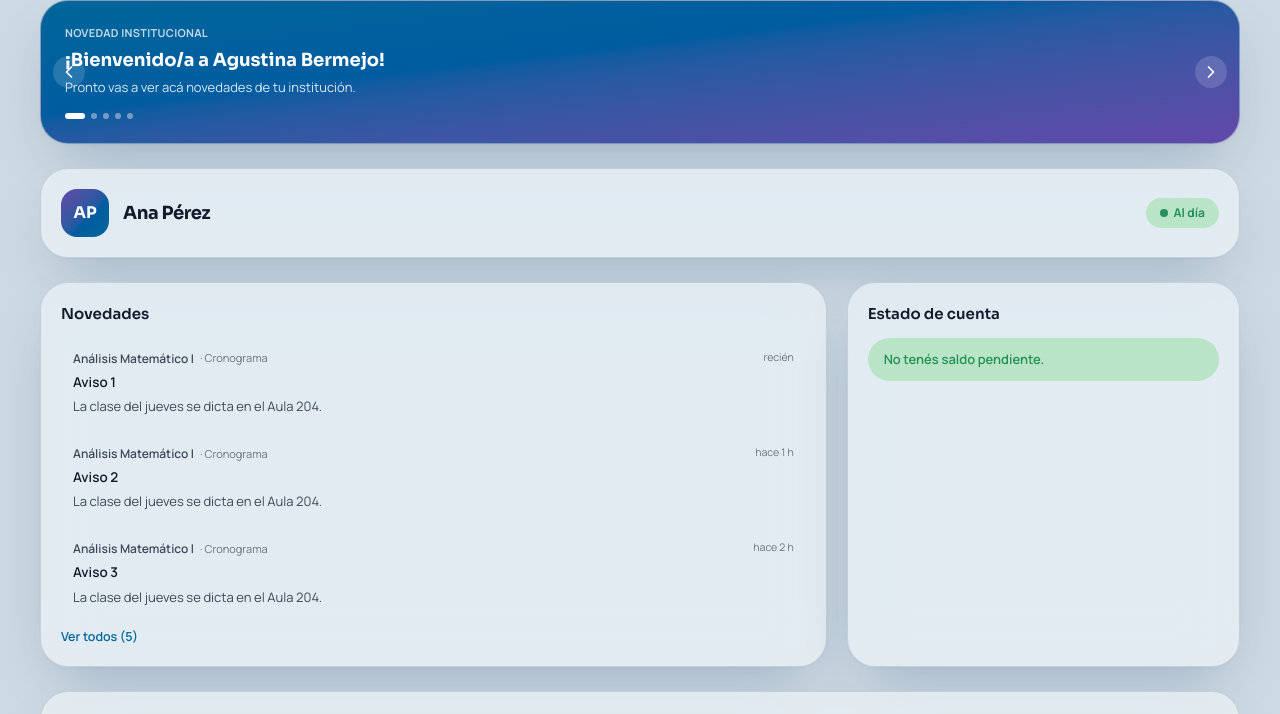
Test: AlumnoInicio — Novedades › muestra "Ver todos" cuando hay más de 3 avisos y cambia a "Mostrar menos avisos"
This screenshot has width=1280, height=714.
Click the button "Ver todos (5)" at (100, 637), box x1=61 y1=628 x2=138 y2=646
(page scrolled)
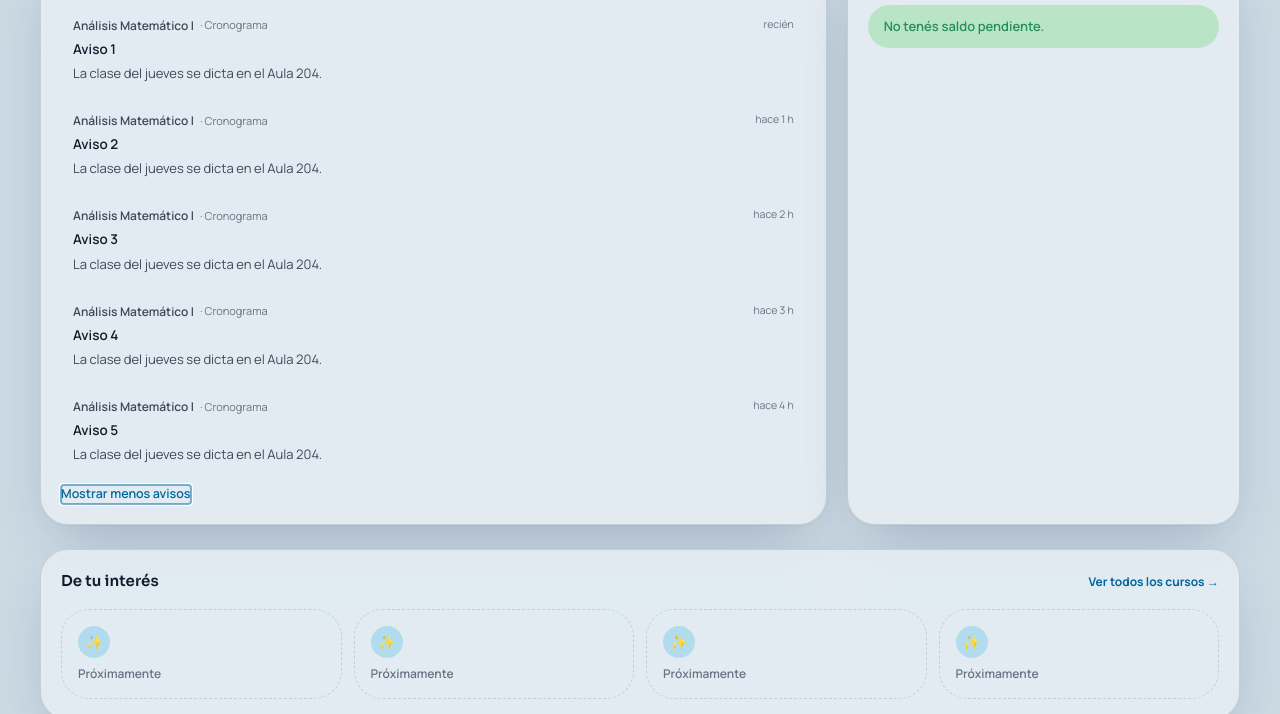
Check: the button "Mostrar menos avisos" is shown, box x1=61 y1=485 x2=190 y2=504
